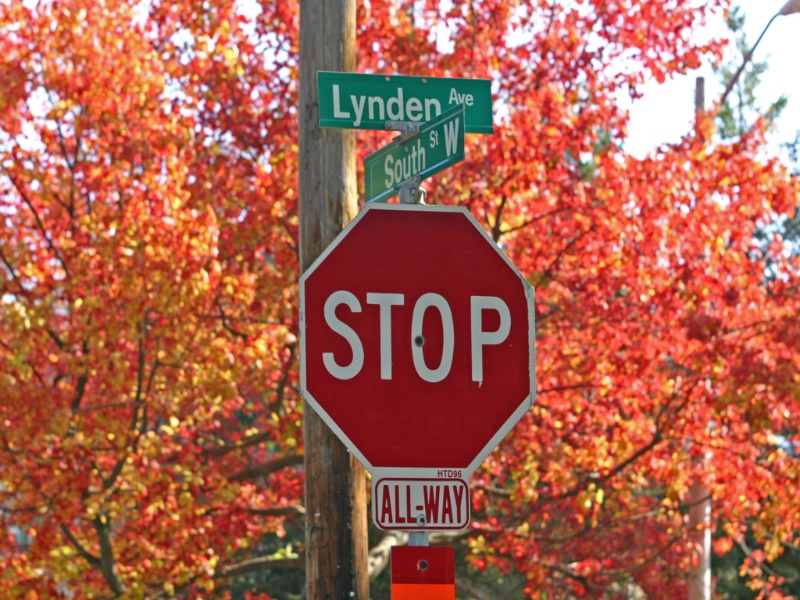stop: (295, 195, 539, 478)
